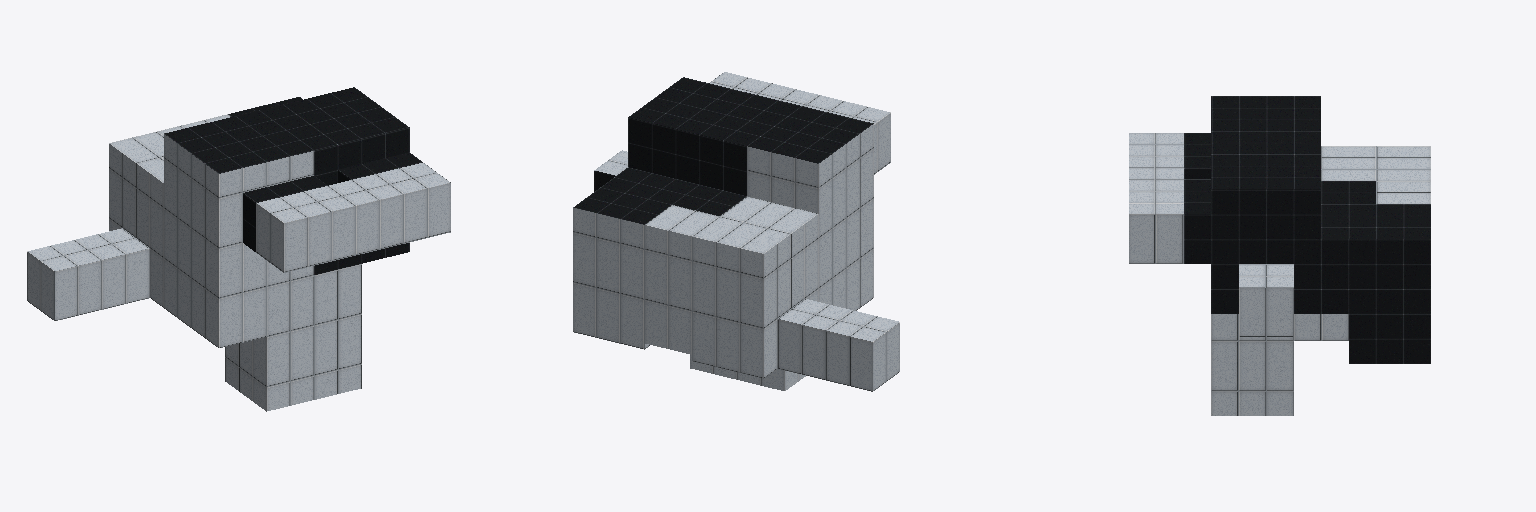
3 views of the same model, side by side, from view 1: azimuth 30°, elevation 25°; view 2: azimuth 150°, elevation 25°; view 3: azimuth 270°, elevation 25° (orthographic).
Parts seen in each view (by area): view 1: Icosphere; view 2: Icosphere; view 3: Icosphere.
Boxes of the visible parts, <box> form: Icosphere: <box>27,87,450,411</box>; Icosphere: <box>573,72,899,391</box>; Icosphere: <box>1129,96,1430,415</box>.
Bounding box in the file's own units: 14 × 10 × 11.
5 materials, 4 textured.